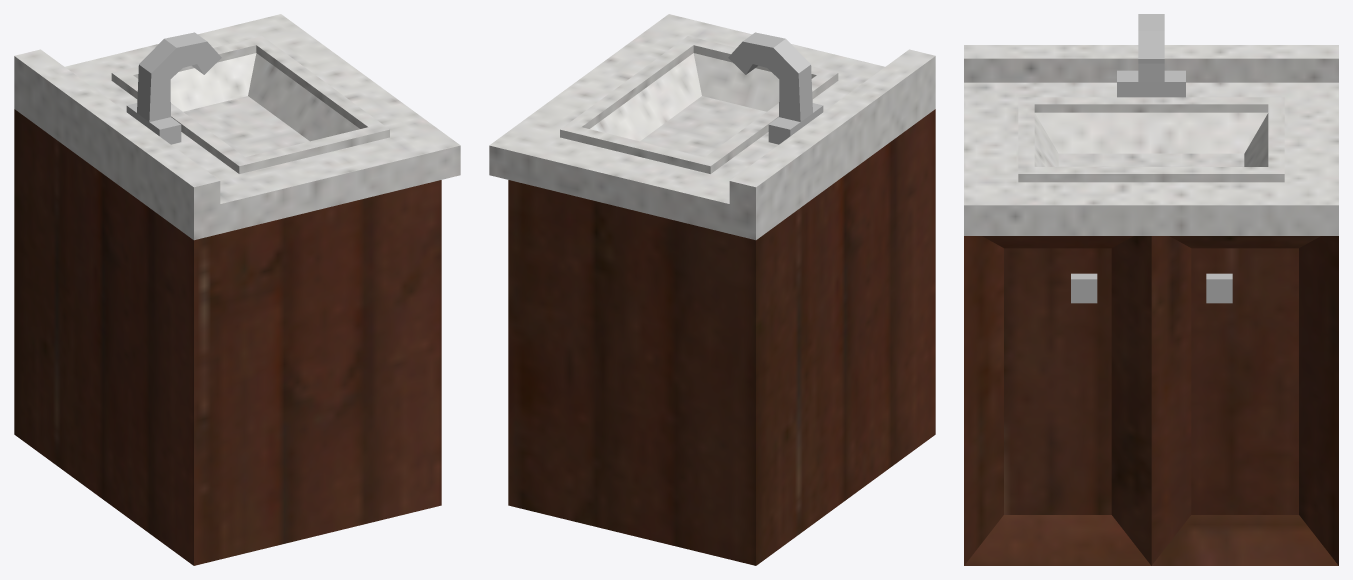
Rendered from sink.fbx.
3 views of the same model, side by side, from view 1: azimuth 30°, elevation 25°; view 2: azimuth 150°, elevation 25°; view 3: azimuth 270°, elevation 25° (orthographic). The views are drawn at different scales.
Visible parts, largest first — view 1: Cube.012, Cube.013, Cube.014; view 2: Cube.012, Cube.013, Cube.014; view 3: Cube.012, Cube.013, Cube.014, Cube.016, Cube.015.
Boxes of the visible parts, bbox=[...] form: Cube.012: bbox=[14, 109, 441, 565]; Cube.013: bbox=[14, 14, 460, 240]; Cube.014: bbox=[126, 32, 221, 144]; Cube.012: bbox=[508, 109, 935, 565]; Cube.013: bbox=[489, 14, 935, 240]; Cube.014: bbox=[728, 32, 823, 144]; Cube.012: bbox=[964, 236, 1338, 565]; Cube.013: bbox=[964, 45, 1338, 235]; Cube.014: bbox=[1117, 14, 1185, 97]; Cube.016: bbox=[1206, 273, 1232, 303]; Cube.015: bbox=[1071, 273, 1097, 303].
Bounding box in the file's own units: 172 × 271 × 200.
